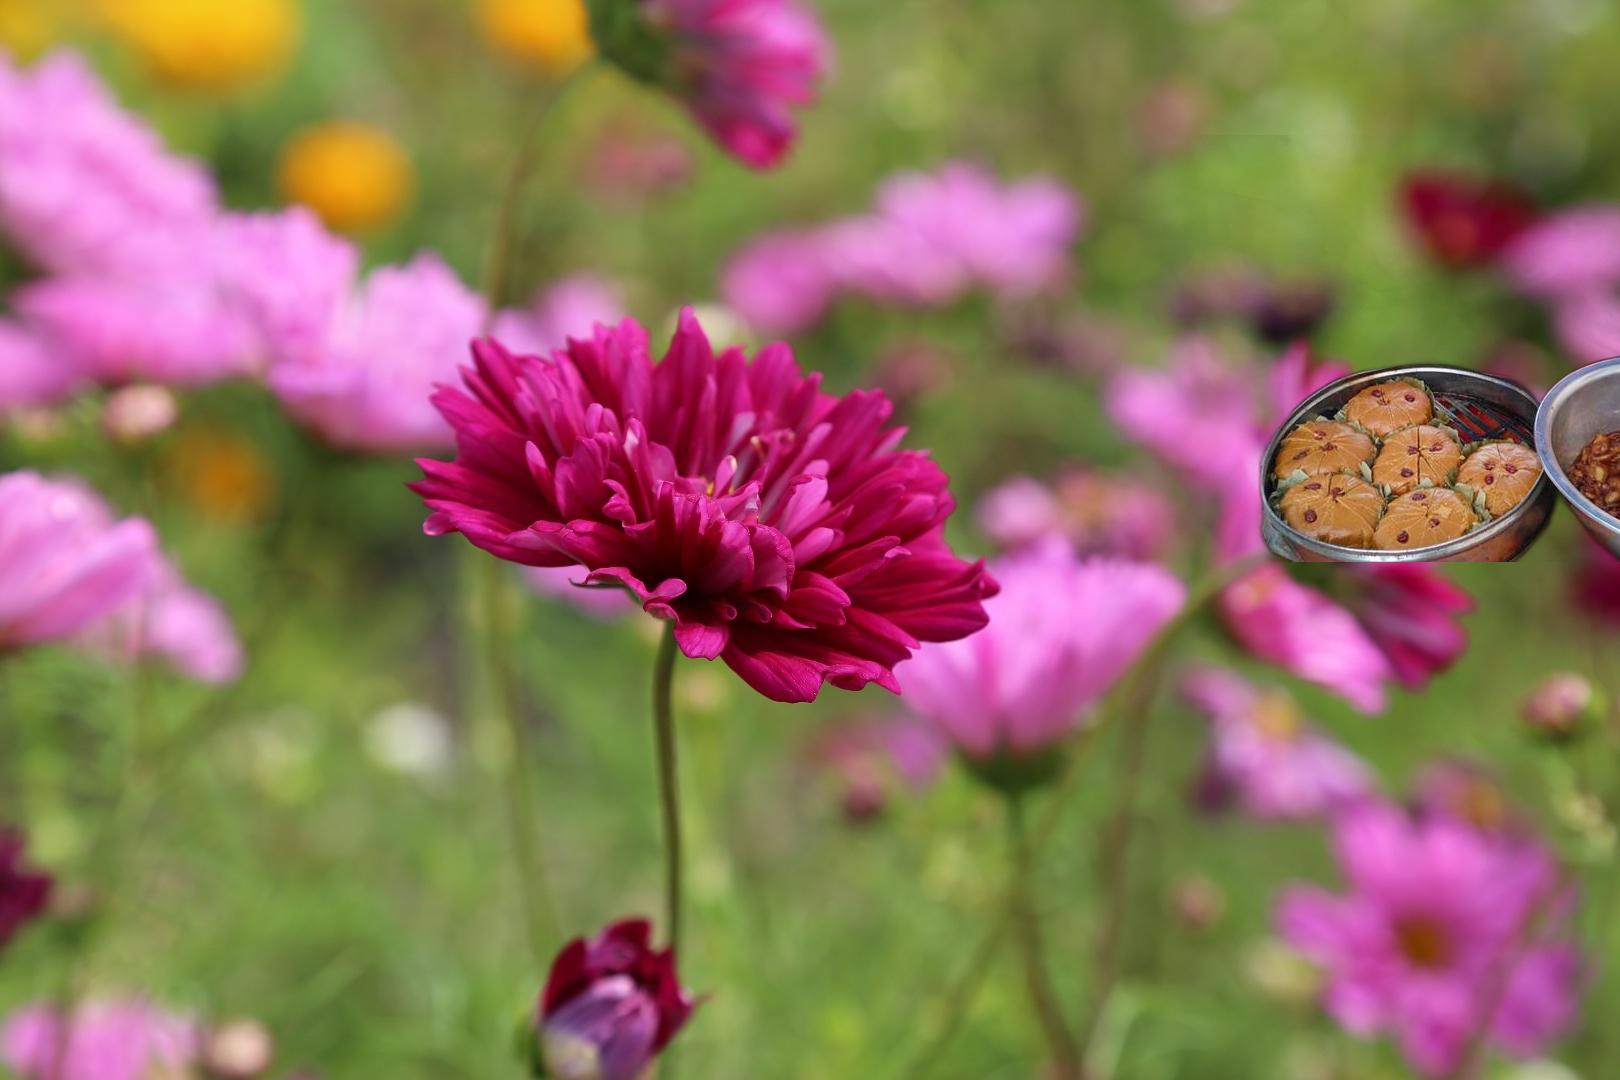biological: (1172, 135, 1620, 562)
